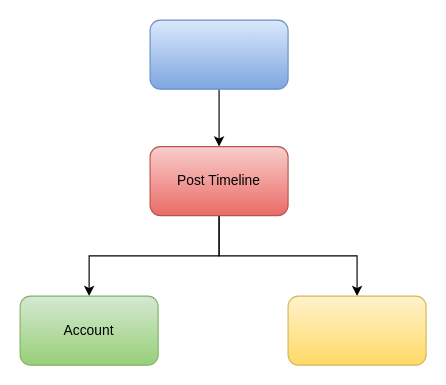
The diagram is 446 pixels wide and 385 high, and some of its shapes have lost their labels. Each missing label, with the centre of its shape:
"About Us" belongs at point (356, 330).
"Sign In" belongs at point (218, 54).
